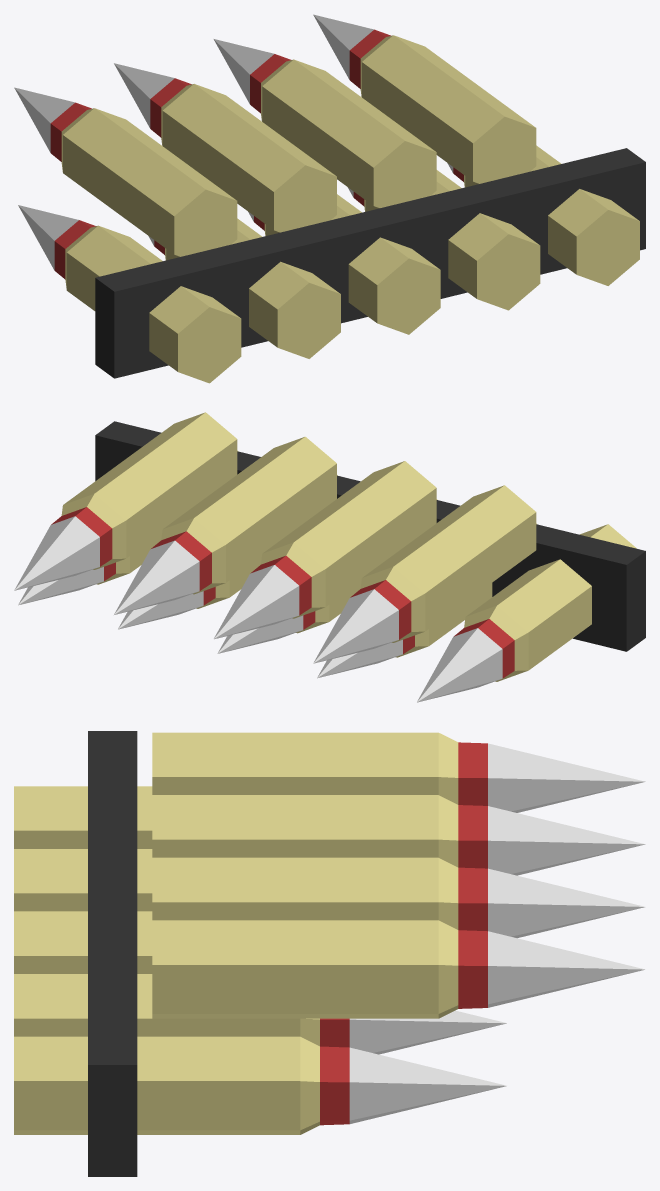
Rendered from ce_ammo_highcal_sabot_b.obj.
3 renders of one model, top to bottom at view 1: azimuth 30°, elevation 25°; view 2: azimuth 150°, elevation 25°; view 3: azimuth 270°, elevation 25°, orthographic. The views are drawn at different scales.
Visible parts, largest first — view 1: ce_ammo_highcal_sabot_b_36, ce_ammo_highcal_sabot_b_20, ce_ammo_highcal_sabot_b_32, ce_ammo_highcal_sabot_b_28, ce_ammo_highcal_sabot_b_24, ce_ammo_highcal_sabot_b_0, ce_ammo_highcal_sabot_b_12, ce_ammo_highcal_sabot_b_8, ce_ammo_highcal_sabot_b_4, ce_ammo_highcal_sabot_b_16, ce_ammo_highcal_sabot_b_27, ce_ammo_highcal_sabot_b_3 (+8 smaller); view 2: ce_ammo_highcal_sabot_b_36, ce_ammo_highcal_sabot_b_20, ce_ammo_highcal_sabot_b_24, ce_ammo_highcal_sabot_b_32, ce_ammo_highcal_sabot_b_28, ce_ammo_highcal_sabot_b_0, ce_ammo_highcal_sabot_b_27, ce_ammo_highcal_sabot_b_3, ce_ammo_highcal_sabot_b_31, ce_ammo_highcal_sabot_b_35, ce_ammo_highcal_sabot_b_23, ce_ammo_highcal_sabot_b_21 (+17 smaller); view 3: ce_ammo_highcal_sabot_b_32, ce_ammo_highcal_sabot_b_16, ce_ammo_highcal_sabot_b_36, ce_ammo_highcal_sabot_b_28, ce_ammo_highcal_sabot_b_20, ce_ammo_highcal_sabot_b_24, ce_ammo_highcal_sabot_b_12, ce_ammo_highcal_sabot_b_19, ce_ammo_highcal_sabot_b_35, ce_ammo_highcal_sabot_b_31, ce_ammo_highcal_sabot_b_27, ce_ammo_highcal_sabot_b_23 (+15 smaller).
Boxes of the visible parts, box(x1,y1,x2,y2) form: ce_ammo_highcal_sabot_b_36: box(95, 148, 645, 378); ce_ammo_highcal_sabot_b_20: box(63, 108, 237, 256); ce_ammo_highcal_sabot_b_32: box(362, 35, 536, 183); ce_ammo_highcal_sabot_b_28: box(262, 59, 436, 207); ce_ammo_highcal_sabot_b_24: box(162, 84, 336, 232); ce_ammo_highcal_sabot_b_0: box(66, 225, 241, 383); ce_ammo_highcal_sabot_b_12: box(365, 170, 540, 310); ce_ammo_highcal_sabot_b_8: box(266, 194, 440, 334); ce_ammo_highcal_sabot_b_4: box(166, 218, 340, 358); ce_ammo_highcal_sabot_b_16: box(465, 145, 639, 285); ce_ammo_highcal_sabot_b_27: box(114, 63, 174, 128); ce_ammo_highcal_sabot_b_3: box(18, 205, 78, 270); ce_ammo_highcal_sabot_b_36: box(95, 421, 645, 651); ce_ammo_highcal_sabot_b_20: box(363, 485, 536, 631); ce_ammo_highcal_sabot_b_24: box(263, 461, 436, 606); ce_ammo_highcal_sabot_b_32: box(63, 412, 237, 558); ce_ammo_highcal_sabot_b_28: box(163, 436, 336, 582); ce_ammo_highcal_sabot_b_0: box(466, 524, 636, 670); ce_ammo_highcal_sabot_b_27: box(214, 565, 299, 639); ce_ammo_highcal_sabot_b_3: box(417, 628, 502, 702); ce_ammo_highcal_sabot_b_31: box(114, 540, 199, 614); ce_ammo_highcal_sabot_b_35: box(14, 516, 99, 590); ce_ammo_highcal_sabot_b_23: box(313, 589, 398, 663); ce_ammo_highcal_sabot_b_21: box(360, 566, 425, 642); ce_ammo_highcal_sabot_b_32: box(152, 920, 438, 1018); ce_ammo_highcal_sabot_b_16: box(14, 1036, 300, 1134); ce_ammo_highcal_sabot_b_36: box(88, 731, 137, 1176); ce_ammo_highcal_sabot_b_28: box(152, 857, 438, 920); ce_ammo_highcal_sabot_b_20: box(152, 732, 438, 794); ce_ammo_highcal_sabot_b_24: box(152, 795, 438, 857); ce_ammo_highcal_sabot_b_12: box(14, 974, 300, 1036); ce_ammo_highcal_sabot_b_19: box(349, 1047, 506, 1123); ce_ammo_highcal_sabot_b_35: box(488, 931, 645, 1007); ce_ammo_highcal_sabot_b_31: box(488, 868, 644, 938); ce_ammo_highcal_sabot_b_27: box(488, 806, 645, 875); ce_ammo_highcal_sabot_b_23: box(488, 743, 645, 812).
Size of the model in its own units: 0.8 by 0.205 by 0.64.
